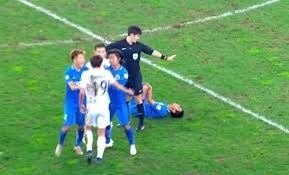falling: (110, 80, 185, 127)
